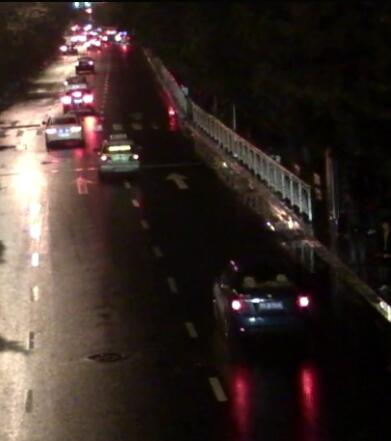car: (211, 254, 316, 339), (93, 132, 137, 175), (42, 113, 86, 147), (58, 90, 91, 112), (63, 75, 86, 94), (74, 55, 93, 73)
